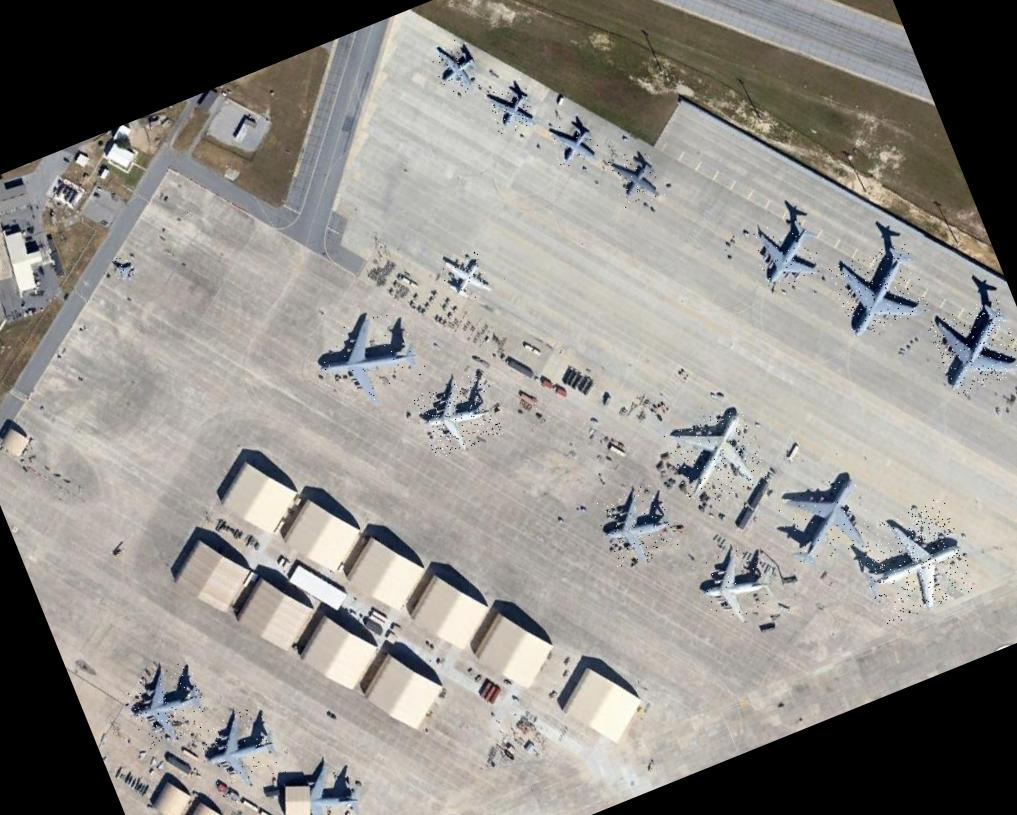A13: (107, 252, 137, 282)
A2: (426, 32, 486, 101), (604, 145, 664, 210), (435, 243, 492, 305), (482, 76, 539, 136), (545, 115, 600, 169)
A3: (194, 702, 286, 798), (120, 658, 213, 751), (410, 370, 503, 459), (591, 479, 680, 571), (690, 542, 774, 626), (746, 211, 825, 291)
A4: (848, 495, 979, 626), (306, 302, 430, 417), (661, 402, 769, 511), (770, 470, 878, 570), (826, 238, 931, 340), (925, 294, 1017, 397)
